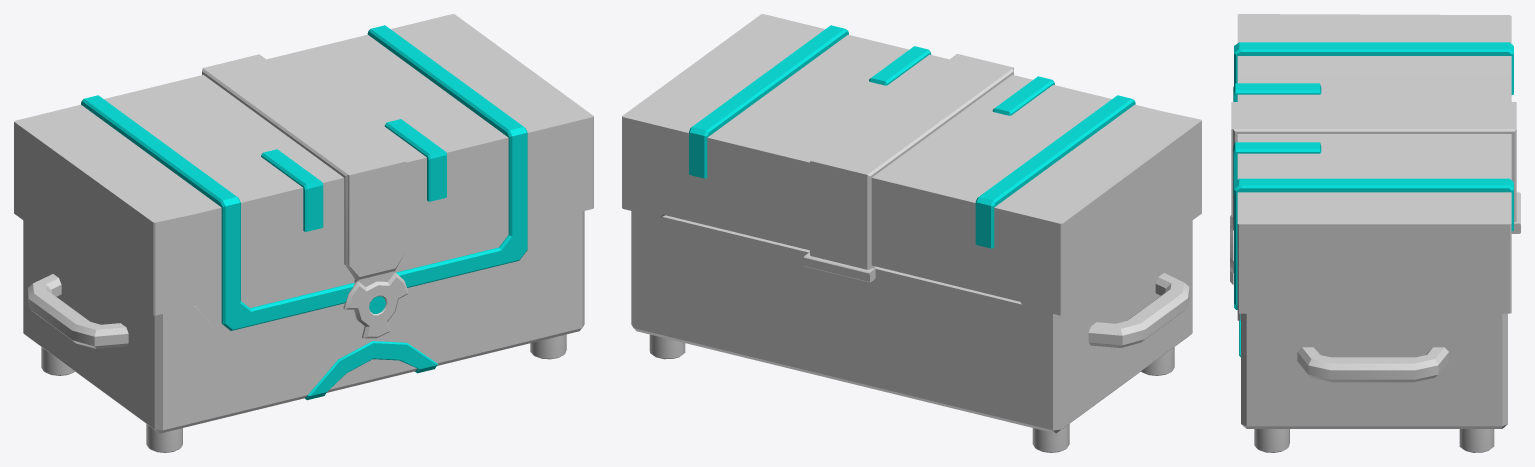
File: ItemChest.fbx
The picture shows the model from 3 angles, left to right: view 1: azimuth 30°, elevation 25°; view 2: azimuth 150°, elevation 25°; view 3: azimuth 270°, elevation 25°; orthographic projection. The views are drawn at different scales.
Parts seen in each view (by area): view 1: BoxLid, BoxContainer; view 2: BoxLid, BoxContainer; view 3: BoxLid, BoxContainer.
Boxes of the visible parts, x1,y1,x2,y2 form: BoxLid: [14, 14, 593, 340]; BoxContainer: [23, 211, 584, 452]; BoxLid: [622, 14, 1201, 315]; BoxContainer: [631, 211, 1192, 452]; BoxLid: [1230, 14, 1516, 320]; BoxContainer: [1239, 192, 1520, 452].
Size of the model in its own units: 283 by 132 by 144.
